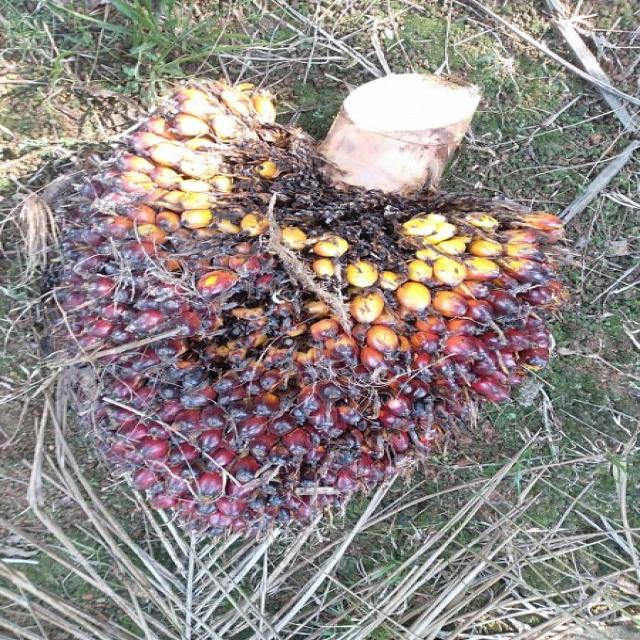fraksi 1: (49, 100, 555, 534)
